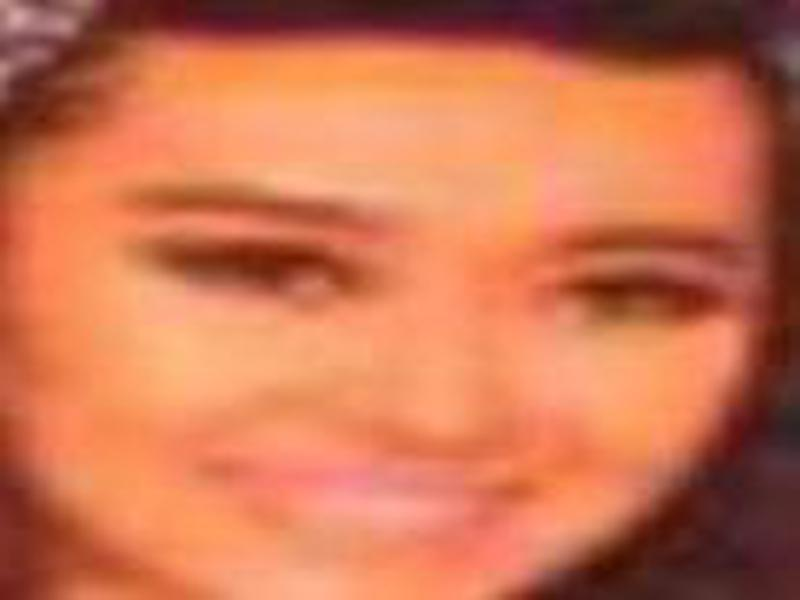without_mask: (16, 44, 765, 600)
